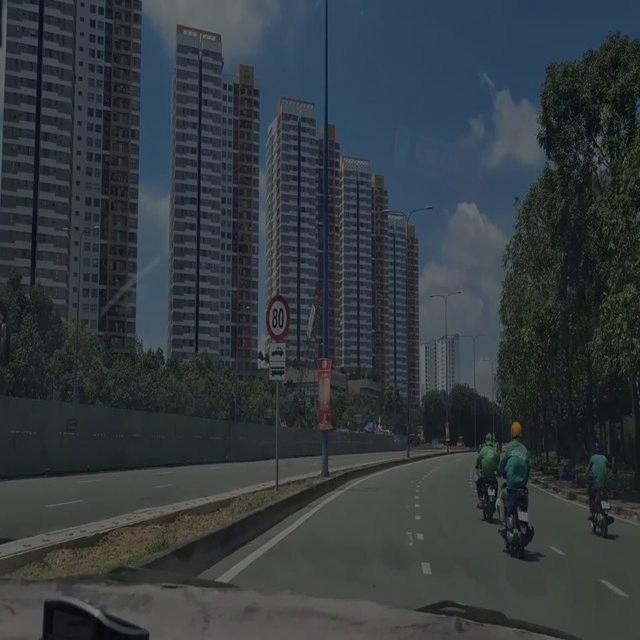Biển phụ: (268, 340, 286, 382)
Giới hạn tốc độ 80Km/h: (266, 288, 289, 339)
